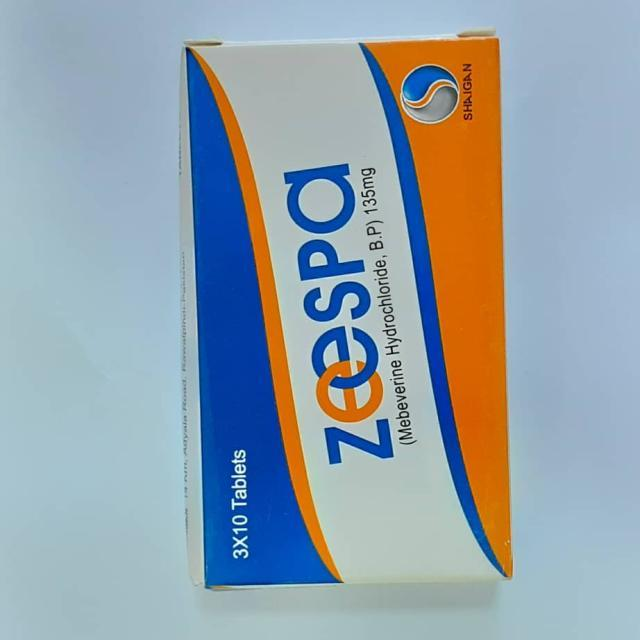drug-name: (276, 159, 397, 476)
